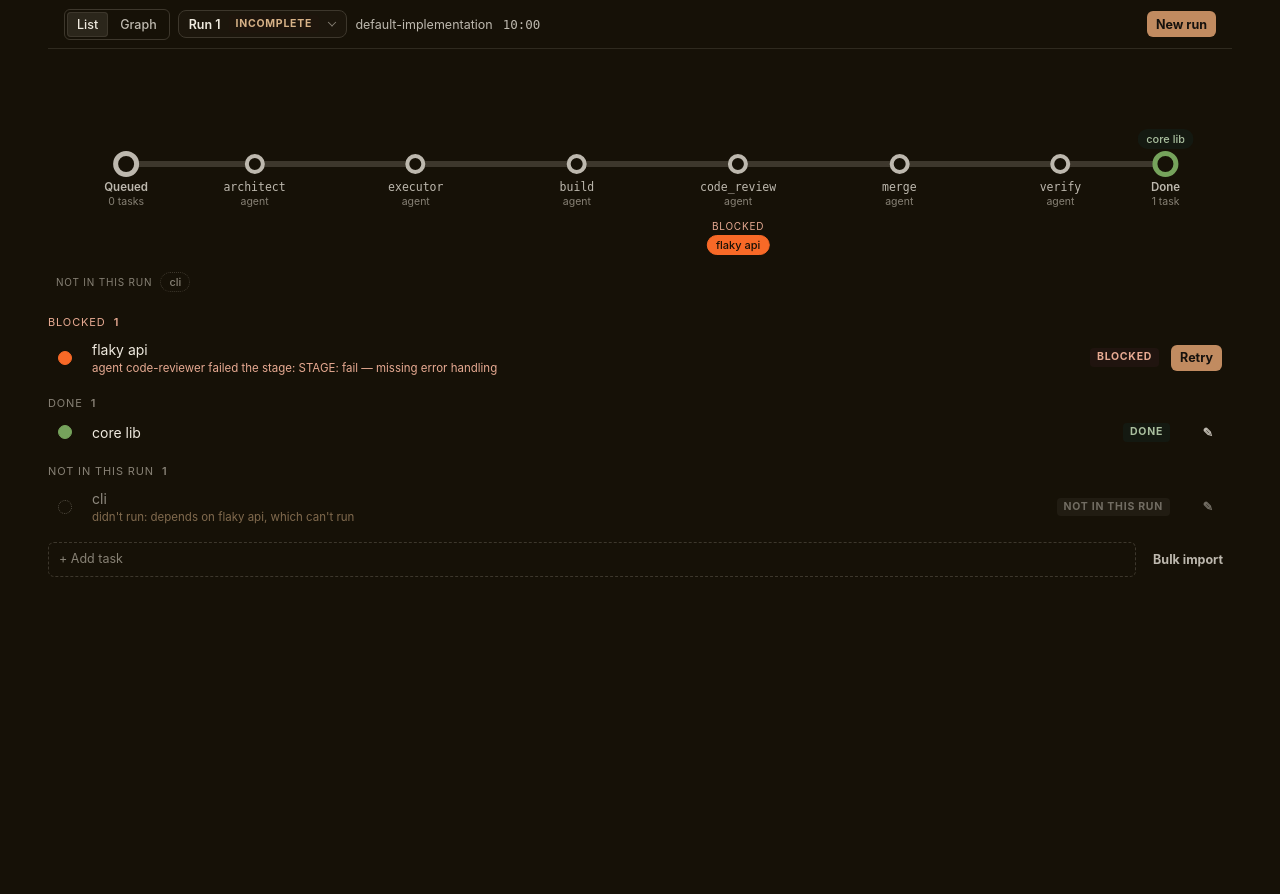
TasksTab › a past run › Save & retry saves, then retries the task
This screenshot has width=1280, height=894.
Expected: the button "New run" is shown, 1147,11 -> 1216,37
Click the 2nd button "flaky api". click: (120, 349)
box: 92,338 -> 1078,360
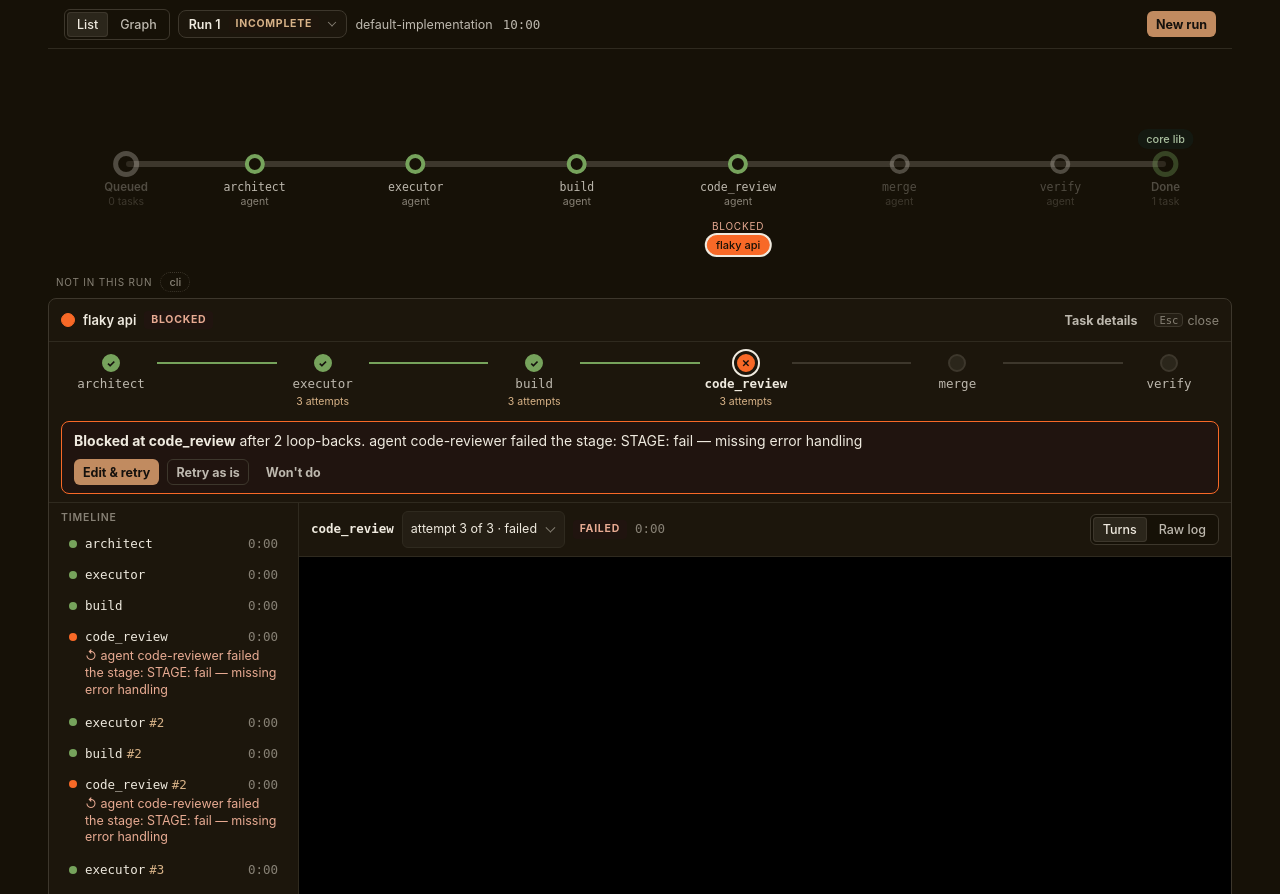
Click the button "Edit & retry". click: (117, 472)
box: 74,459 -> 159,485
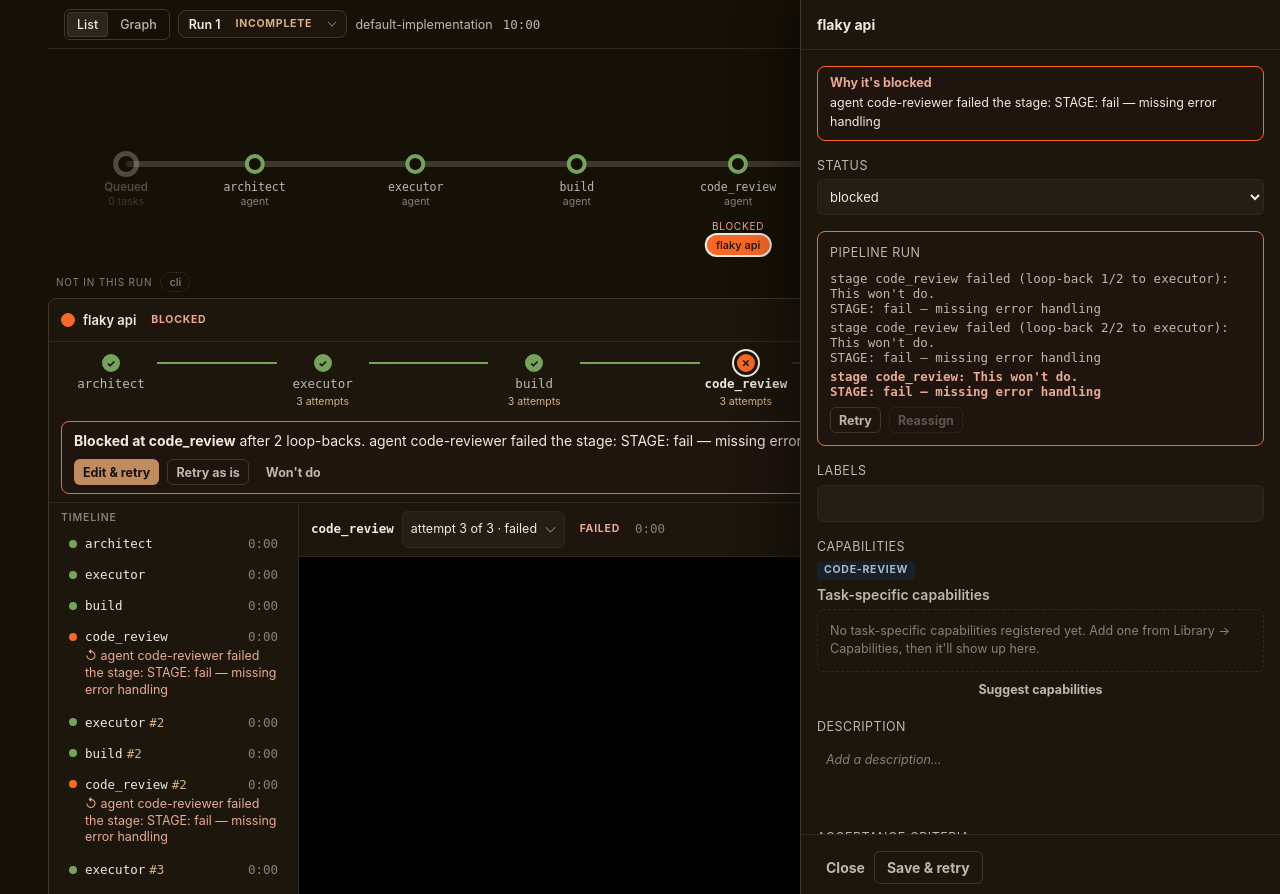
Click the button "Save & retry". click: (928, 868)
box: 874,851 -> 983,884
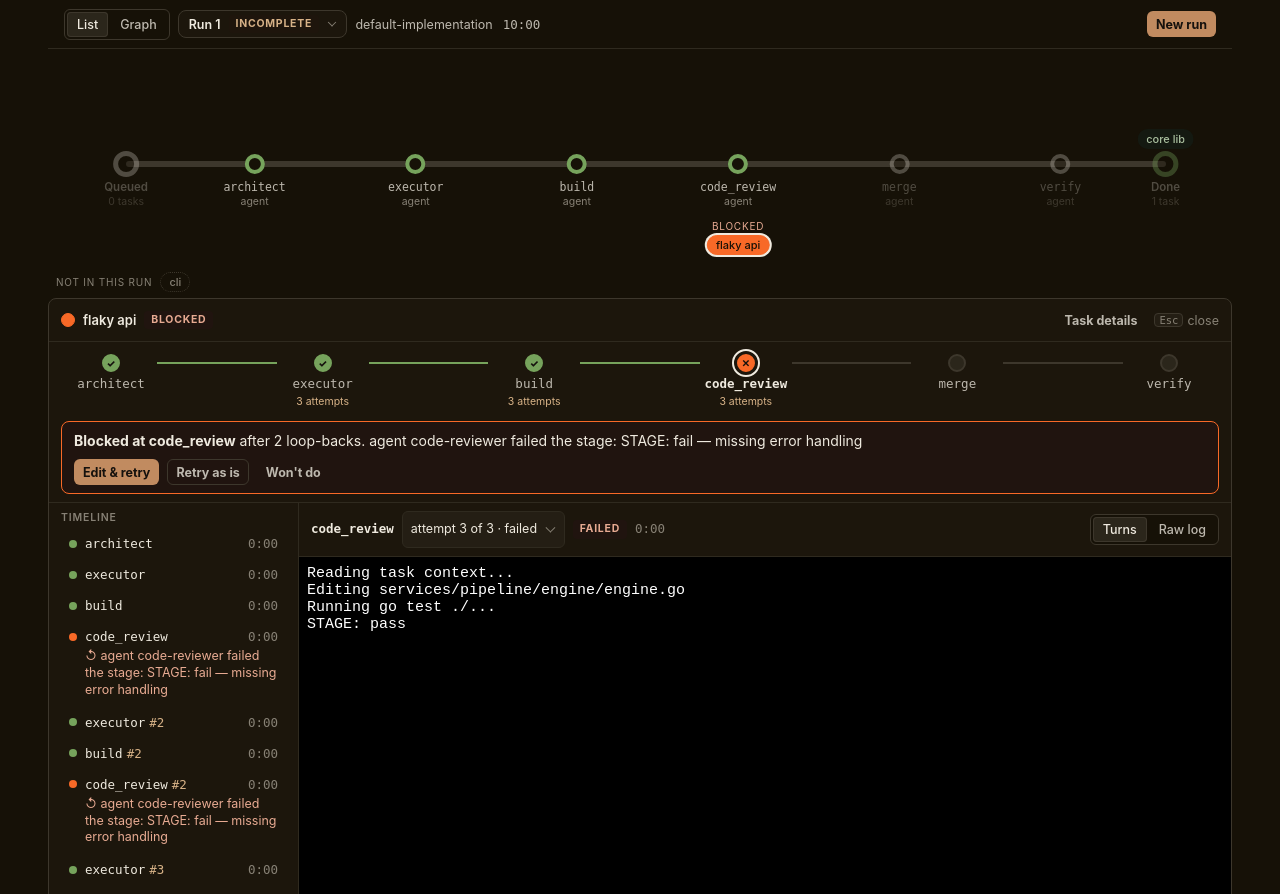
Expected: the text "Why it's blocked" is gone
